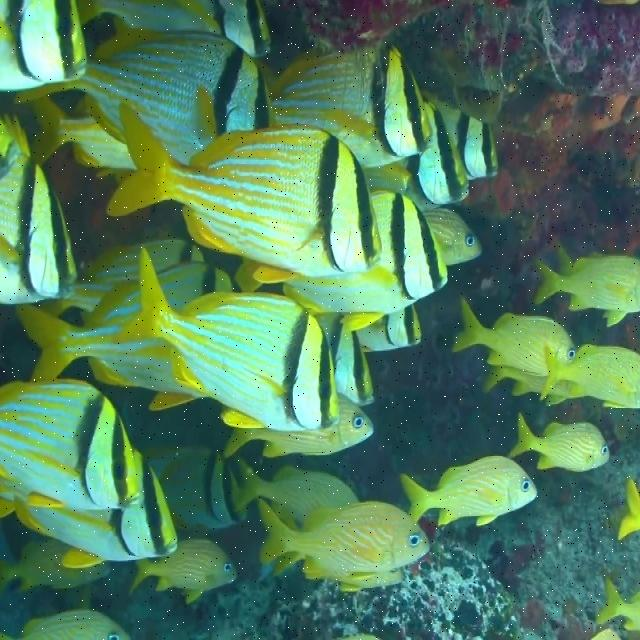fish: (106, 102, 383, 283), (114, 245, 338, 430), (20, 241, 232, 412), (16, 28, 276, 165), (282, 190, 447, 332), (0, 448, 177, 566), (269, 41, 431, 167), (0, 379, 139, 510), (0, 116, 76, 306), (259, 500, 430, 581), (365, 95, 470, 214), (77, 2, 270, 56), (400, 455, 537, 526), (451, 298, 577, 375), (225, 393, 373, 457), (237, 458, 360, 528), (534, 245, 639, 327), (145, 448, 248, 530), (31, 110, 138, 185), (0, 1, 87, 89), (131, 540, 235, 605), (424, 91, 499, 178), (507, 413, 610, 472), (543, 344, 639, 407), (1, 540, 108, 593), (316, 314, 375, 405), (1, 610, 130, 639), (429, 207, 482, 267), (355, 306, 421, 354), (597, 580, 639, 632), (619, 477, 639, 541)
